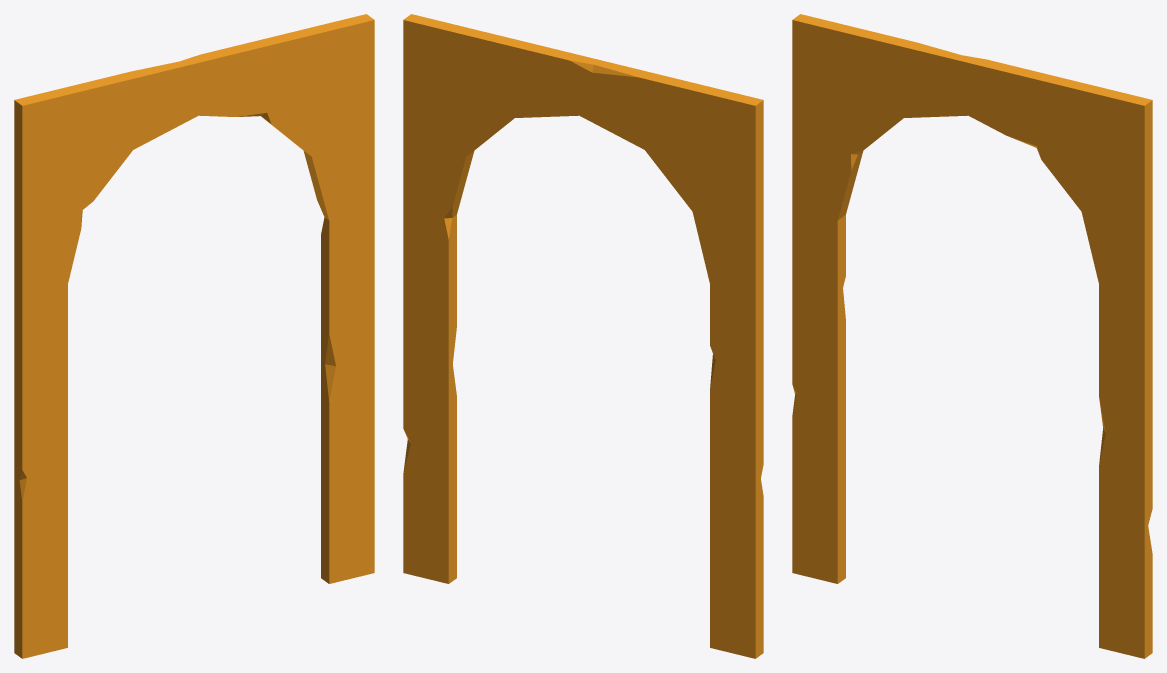
Rendered from SM_Buildings_WallArch_2x3_01P.fbx.
The picture shows the model from 3 angles, left to right: view 1: azimuth 30°, elevation 25°; view 2: azimuth 150°, elevation 25°; view 3: azimuth 330°, elevation 25°; orthographic projection.
Visible parts, largest first — view 1: SM_Buildings_WallArch_2x3_01P; view 2: SM_Buildings_WallArch_2x3_01P; view 3: SM_Buildings_WallArch_2x3_01P.
Boxes of the visible parts, x1,y1,x2,y2 form: SM_Buildings_WallArch_2x3_01P: (14, 14, 374, 658); SM_Buildings_WallArch_2x3_01P: (403, 14, 763, 658); SM_Buildings_WallArch_2x3_01P: (792, 14, 1152, 658).
Bounding box in the file's own units: 200 × 300 × 8.
